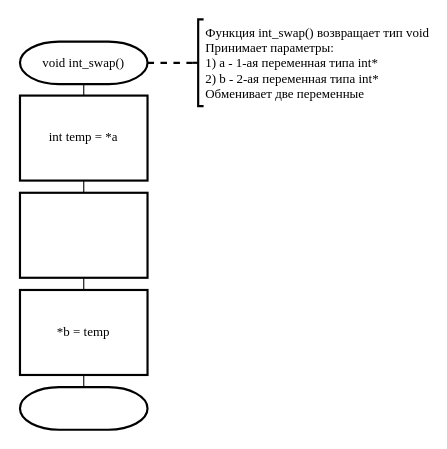
Some shapes in this 447 by 449 pixel diagram are drawn without their labels. The centre of each missing label's shape, as x and y in pixels:
"*a = *b" goes at [83,234].
"Конец" goes at [83,408].
